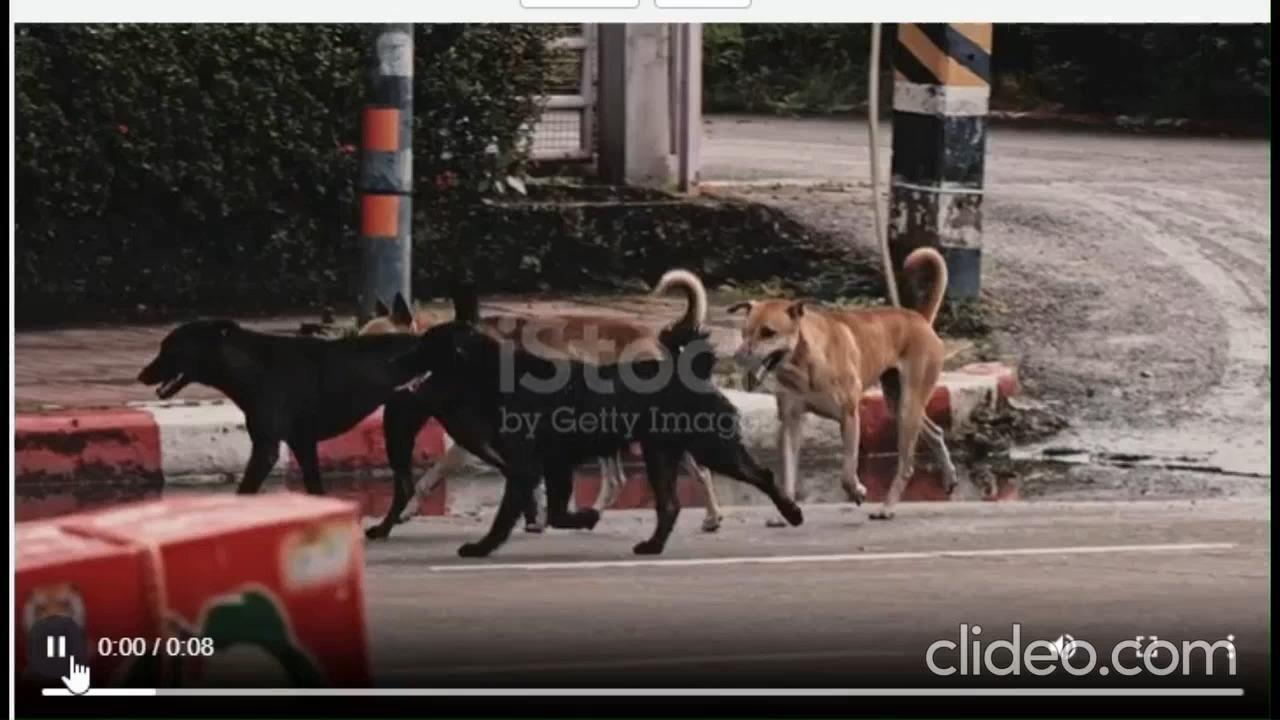dog: (387, 314, 800, 556), (134, 308, 444, 535), (726, 244, 971, 513)
